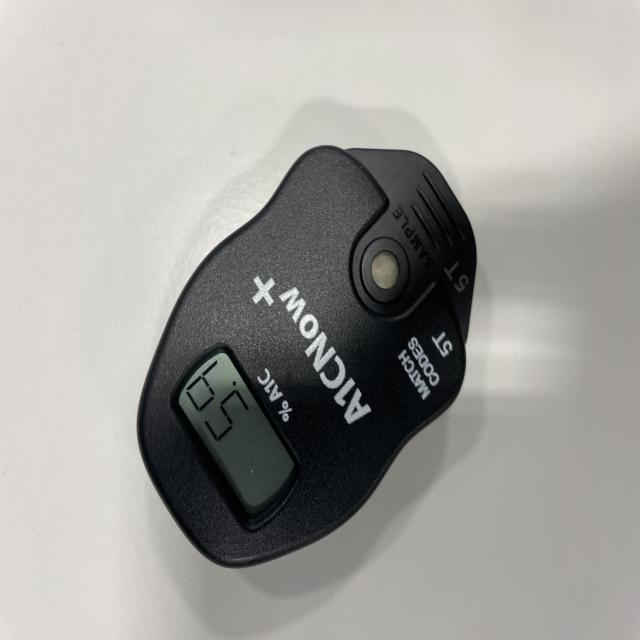hba1c: (135, 145, 478, 572)
